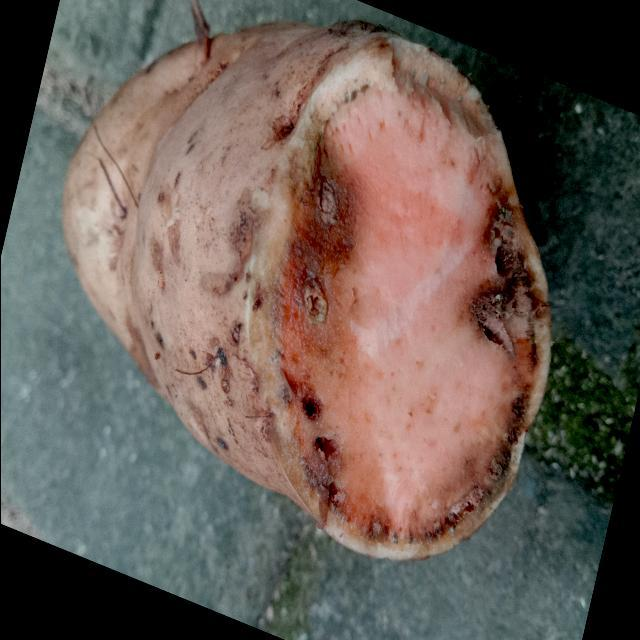Sick Sweet Potato_Tuber Rot: (272, 32, 549, 558)
